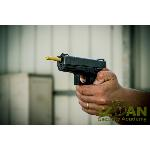Pistol: (56, 54, 106, 86)
